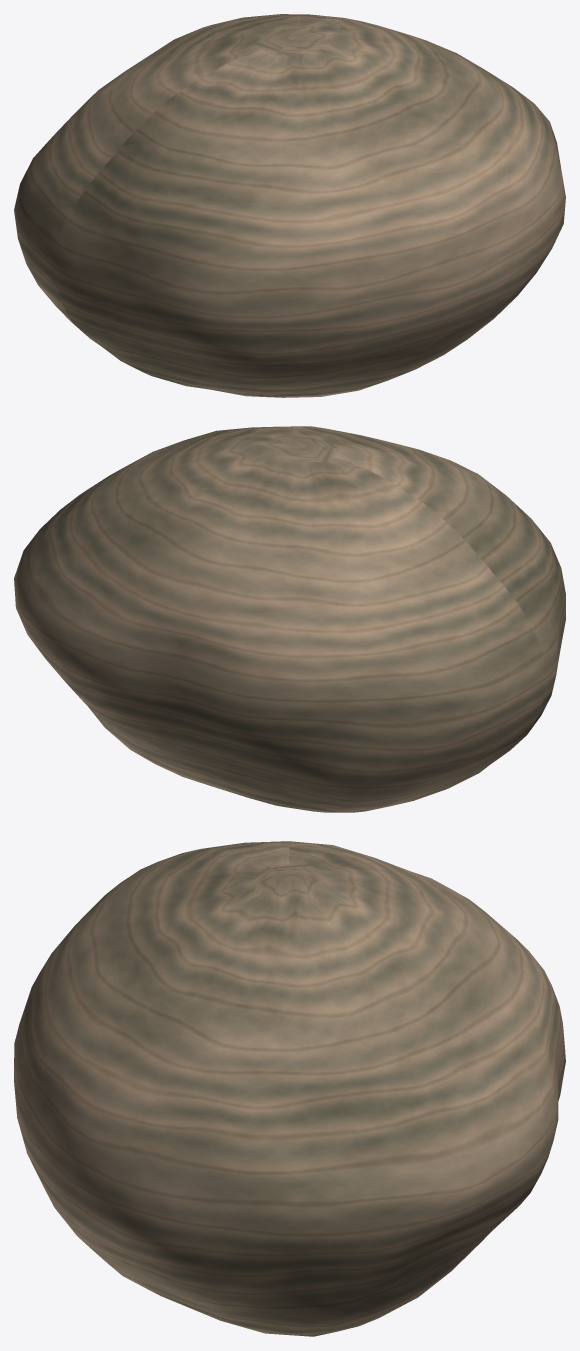
The model's file is PZ_R01_Rounded_Pebble_Sediment.glb.
The picture shows the model from 3 angles, top to bottom: view 1: azimuth 30°, elevation 25°; view 2: azimuth 150°, elevation 25°; view 3: azimuth 270°, elevation 25°; orthographic projection. The views are drawn at different scales.
Parts seen in each view (by area): view 1: RENDER_R01_Rounded_Pebble_Sediment; view 2: RENDER_R01_Rounded_Pebble_Sediment; view 3: RENDER_R01_Rounded_Pebble_Sediment.
Part boxes in pixels (<box>): RENDER_R01_Rounded_Pebble_Sediment: <box>14,14,565,397</box>; RENDER_R01_Rounded_Pebble_Sediment: <box>14,426,565,812</box>; RENDER_R01_Rounded_Pebble_Sediment: <box>14,841,565,1336</box>.
Bounding box in the file's own units: 0.3 × 0.18 × 0.24.
1 material, 1 textured.
